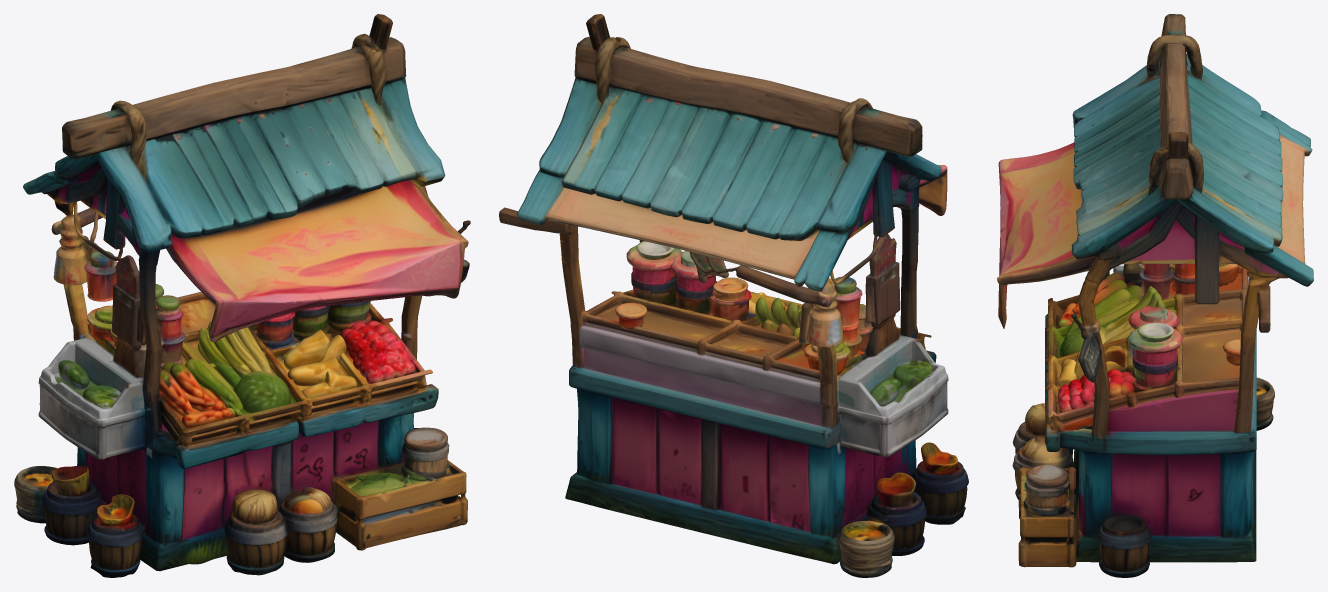
The model's file is market_artic.glb.
The picture shows the model from 3 angles, left to right: view 1: azimuth 30°, elevation 25°; view 2: azimuth 150°, elevation 25°; view 3: azimuth 270°, elevation 25°; orthographic projection. The views are drawn at different scales.
Parts seen in each view (by area): view 1: material; view 2: material; view 3: material.
Boxes of the visible parts, bbox=[...] form: material: bbox=[14, 14, 470, 577]; material: bbox=[499, 14, 968, 577]; material: bbox=[997, 14, 1313, 577].
Bounding box in the file's own units: 0.7754 × 0.8777 × 0.5785.
1 material, 1 textured.
